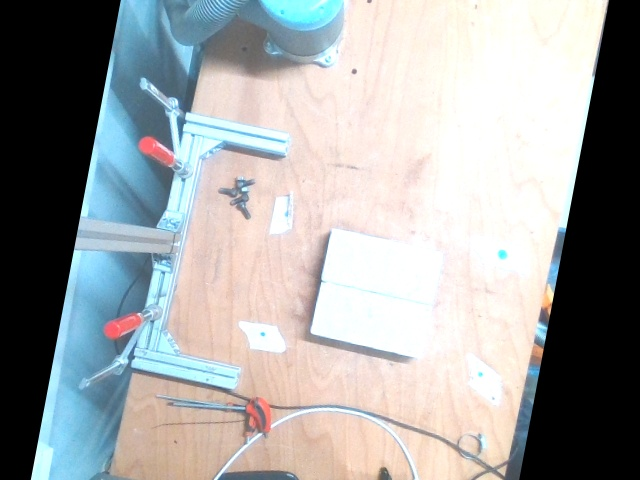brick: (310, 281, 431, 358), (322, 228, 442, 305)
